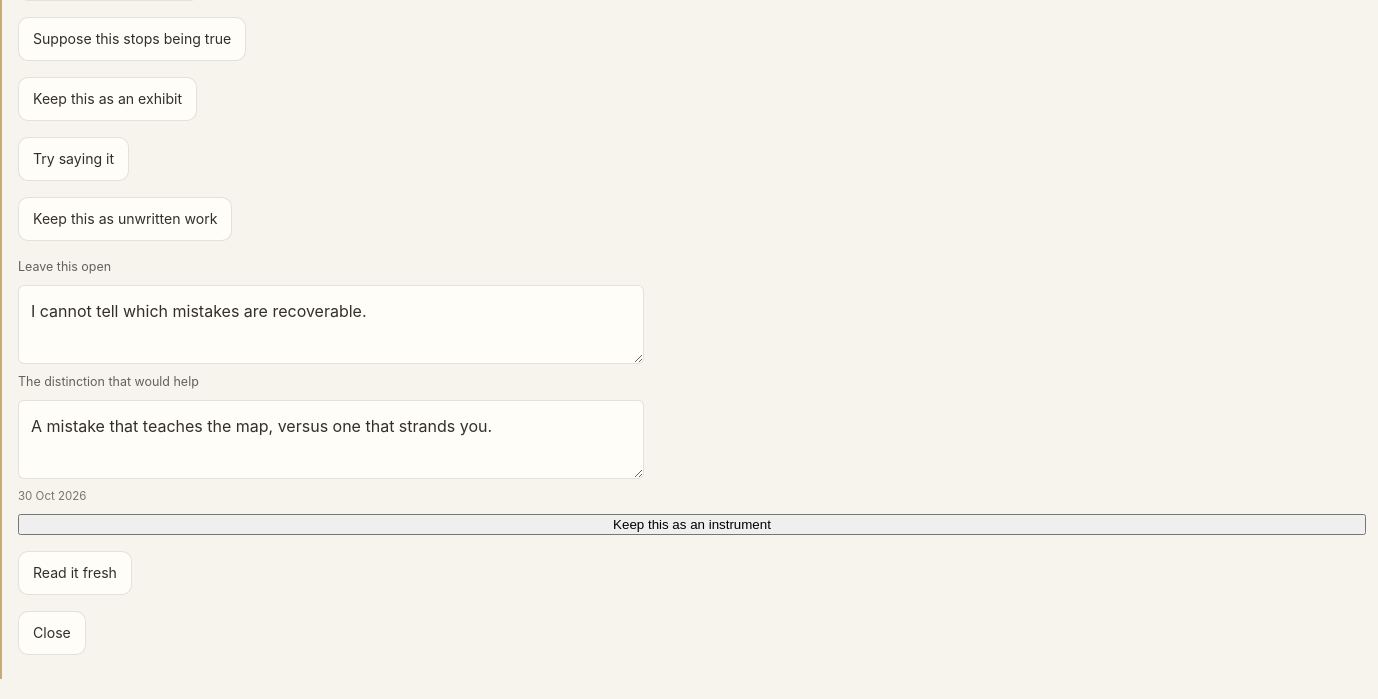
OpenSentence › hides personal writing to read the sources, and restores them in place
(page scrolled)
Click the button "Read it fresh". click: (75, 573)
box: [18,551,132,595]
(page scrolled)
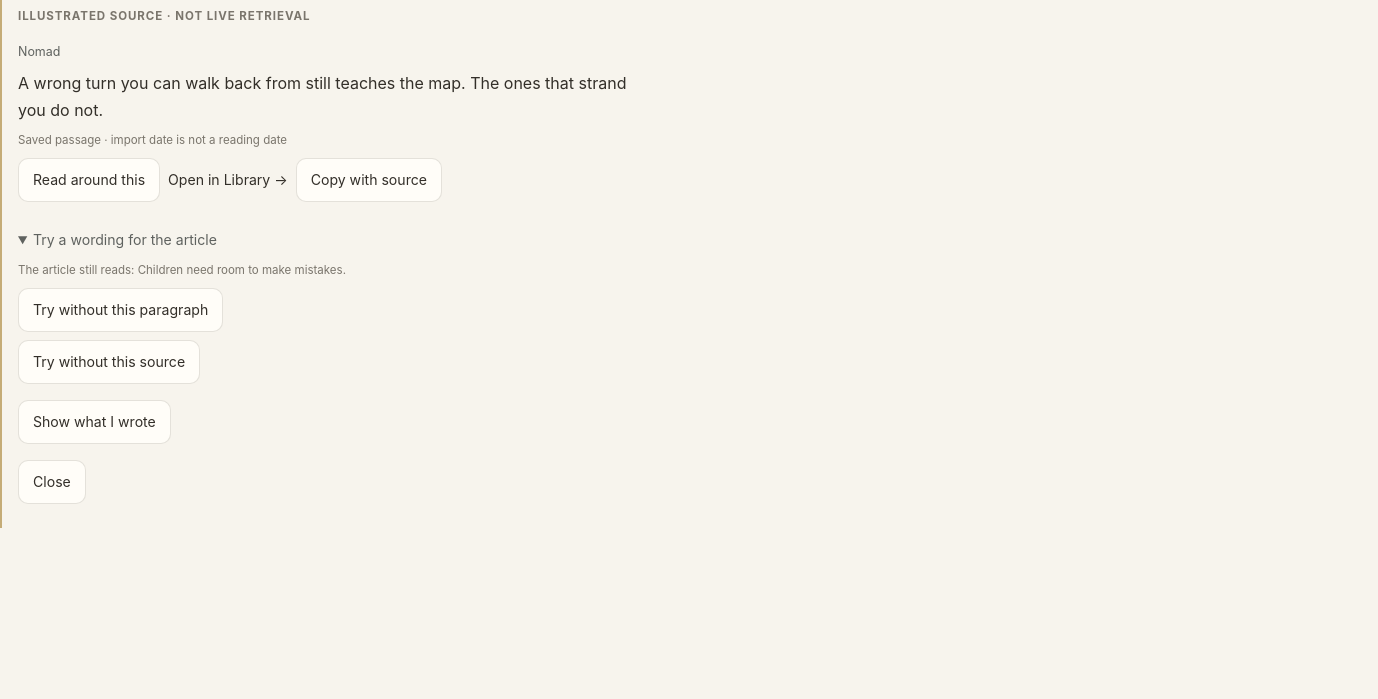
Check: the text "A wrong turn you can walk back from still teaches the map. The ones that strand you do not." is shown, box [18,73,626,120]
Check: the label labelled "Leave this open" is gone
Click the button "Show what I wrote". click: (94, 422)
box: [18,400,171,444]
(page scrolled)
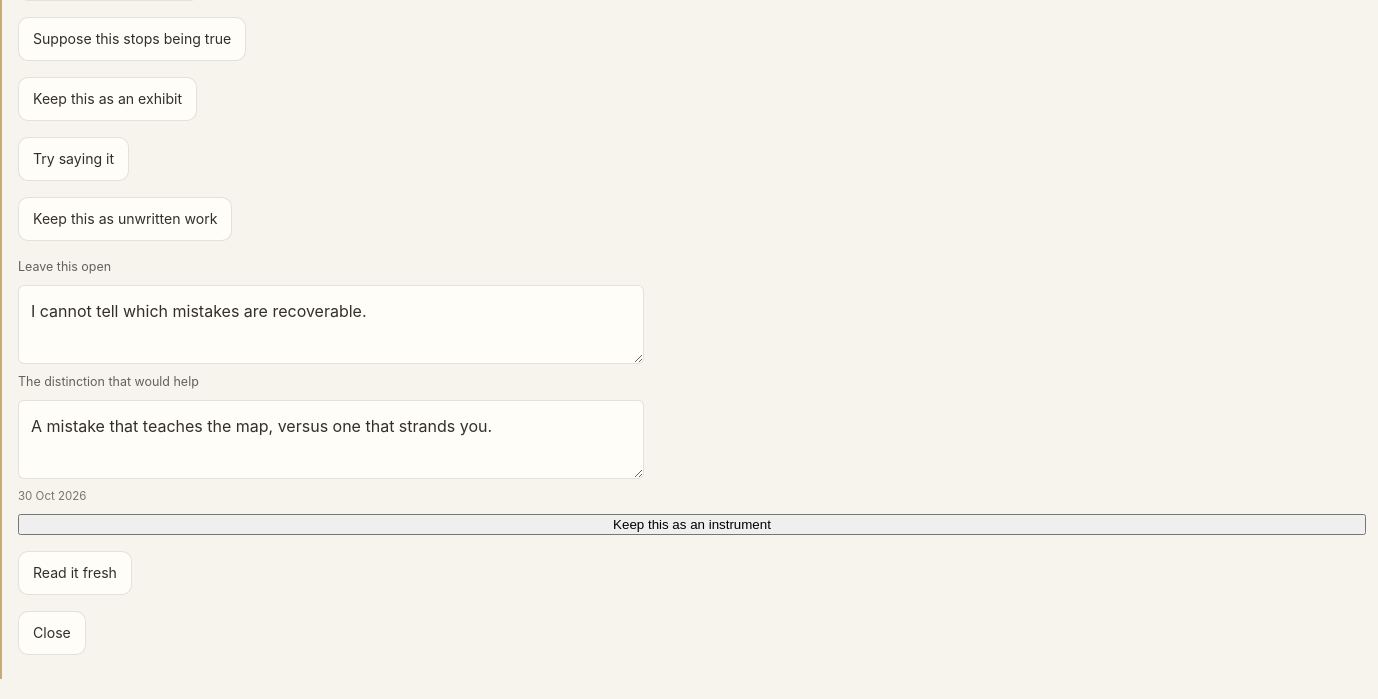
Check: the text box labelled "Leave this open" holds "I cannot tell which mistakes are recoverable.", box [18,285,644,364]
Check: the text box labelled "The distinction that would help" holds "A mistake that teaches the map, versus one that strands you.", box [18,400,644,479]
